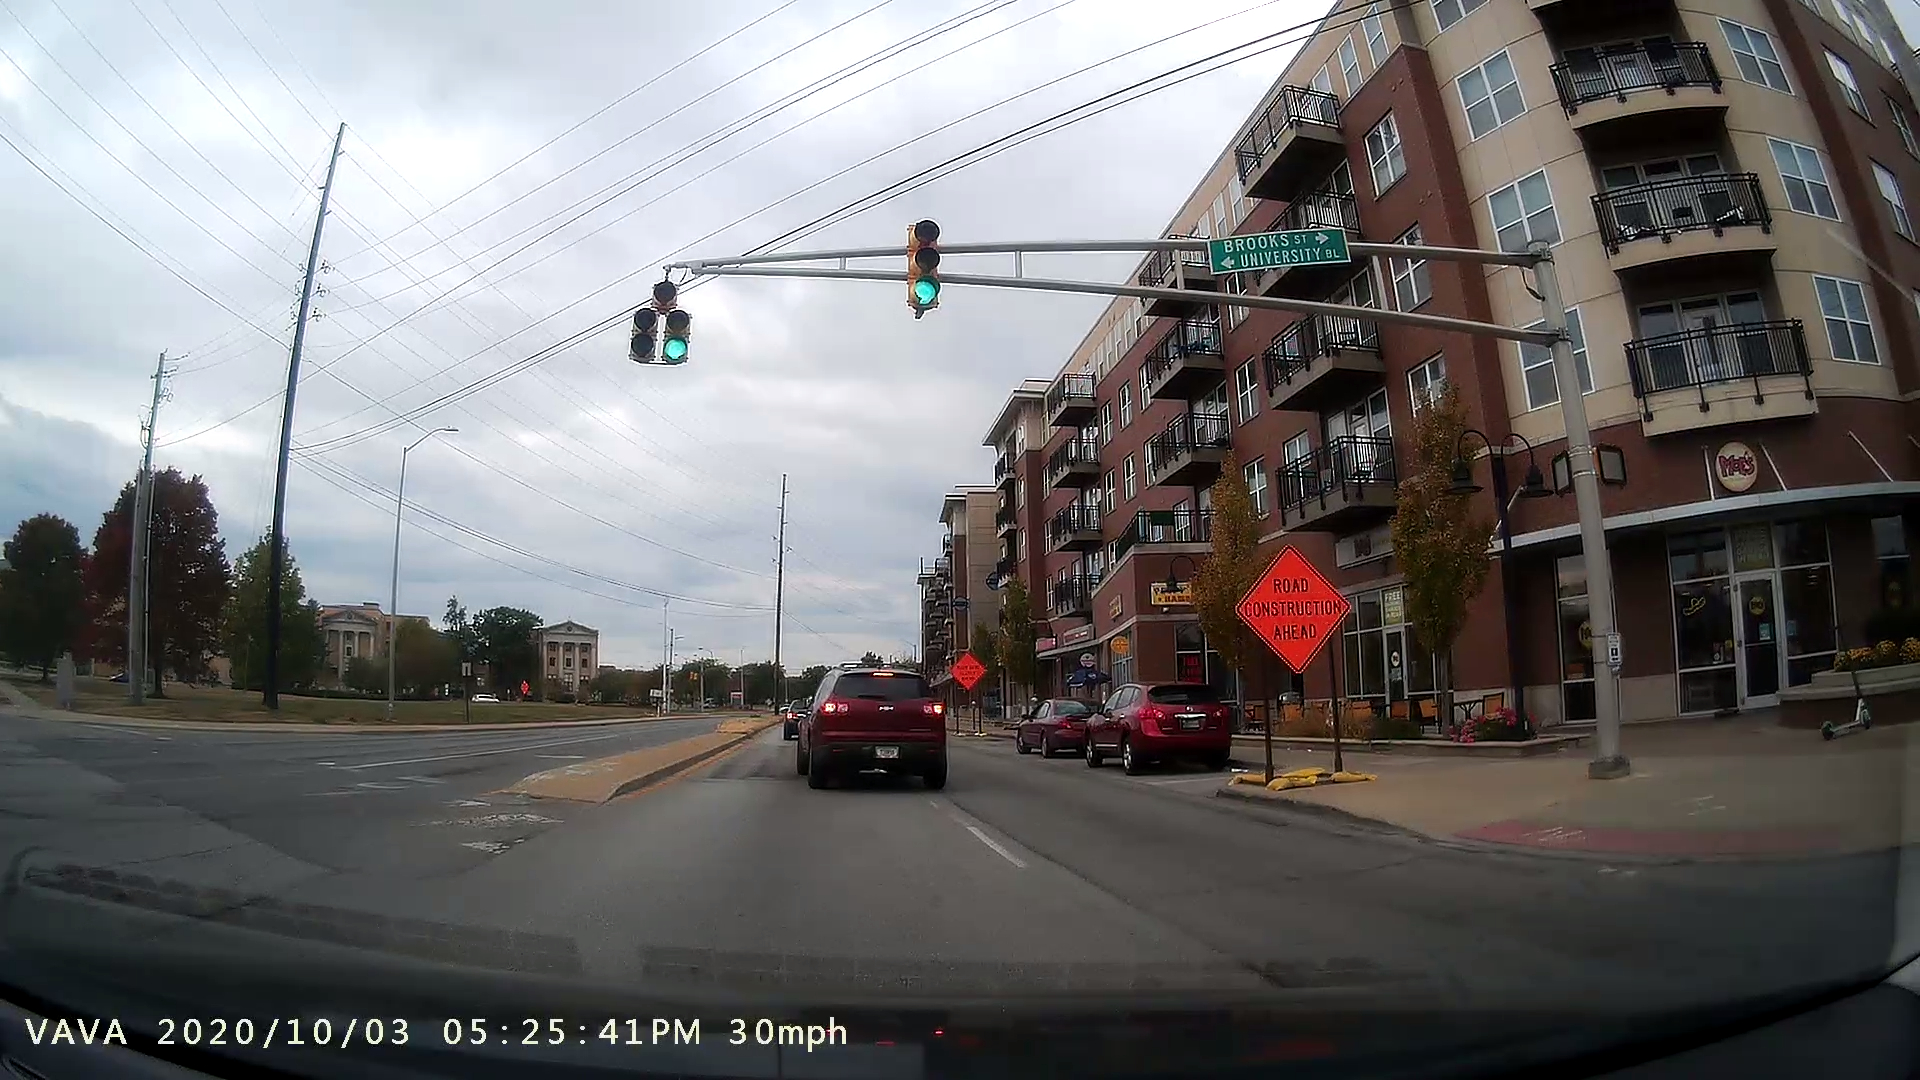ttcs_road_const_ahead: (1220, 518, 1390, 799)
